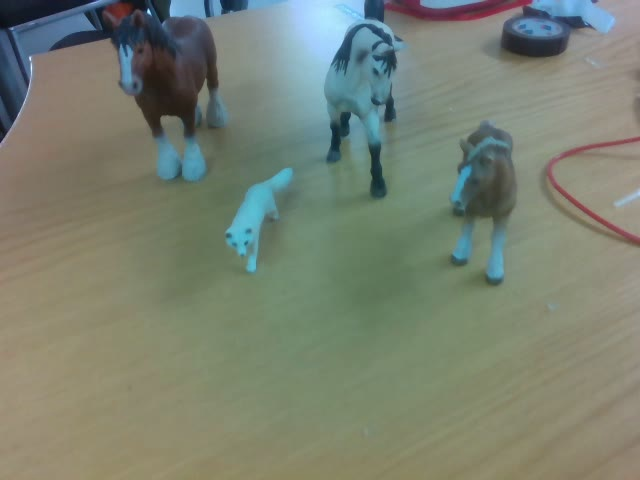toy: (99, 10, 225, 179), (324, 1, 407, 200), (451, 116, 517, 285), (225, 166, 294, 275)
